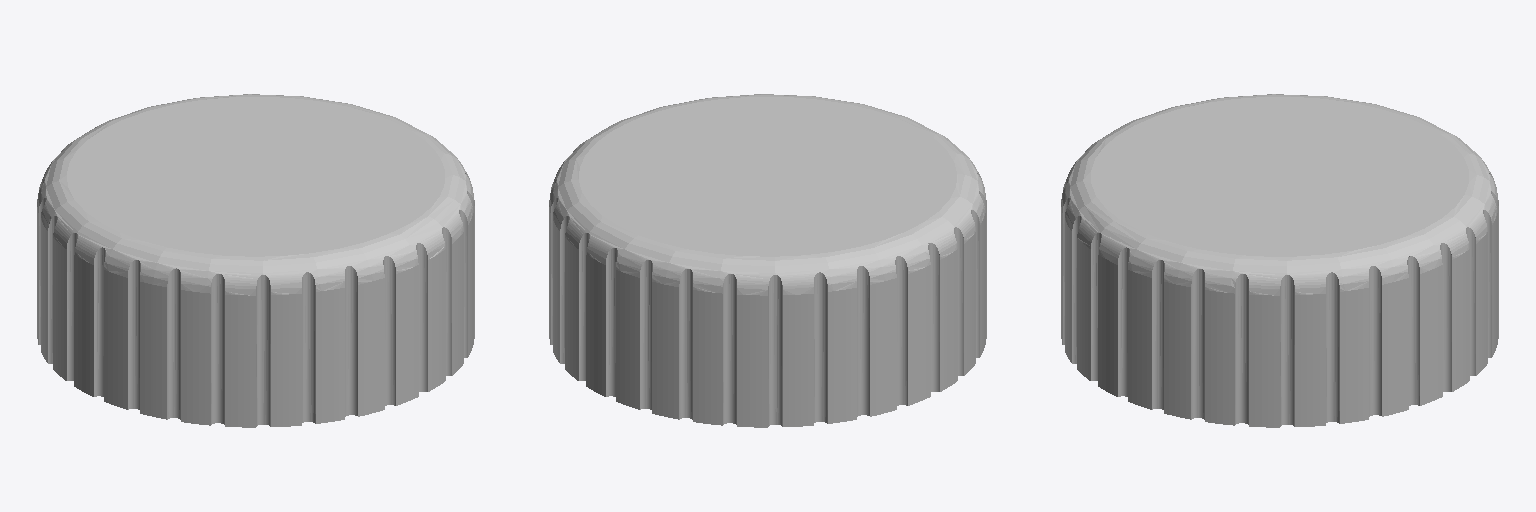
The model's file is original-7.obj.
The picture shows the model from 3 angles: view 1: azimuth 30°, elevation 25°; view 2: azimuth 150°, elevation 25°; view 3: azimuth 270°, elevation 25°; orthographic projection.
Visible parts, largest first — view 1: Grupo_2/mesh626/mesh626-geometry#mesh626-geometry; view 2: Grupo_2/mesh626/mesh626-geometry#mesh626-geometry; view 3: Grupo_2/mesh626/mesh626-geometry#mesh626-geometry.
Part boxes in pixels (left/top/right/bottom): Grupo_2/mesh626/mesh626-geometry#mesh626-geometry: left=37, top=94, right=474, bottom=427; Grupo_2/mesh626/mesh626-geometry#mesh626-geometry: left=549, top=94, right=986, bottom=427; Grupo_2/mesh626/mesh626-geometry#mesh626-geometry: left=1061, top=94, right=1498, bottom=427.
Bounding box in the file's own units: 0.1714 × 0.0686 × 0.1714.